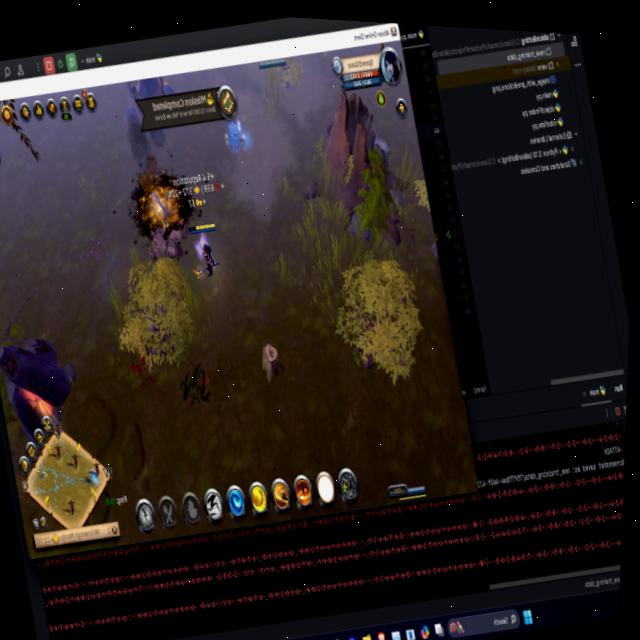red: (177, 212, 233, 296), (390, 476, 429, 506), (253, 53, 290, 75)
